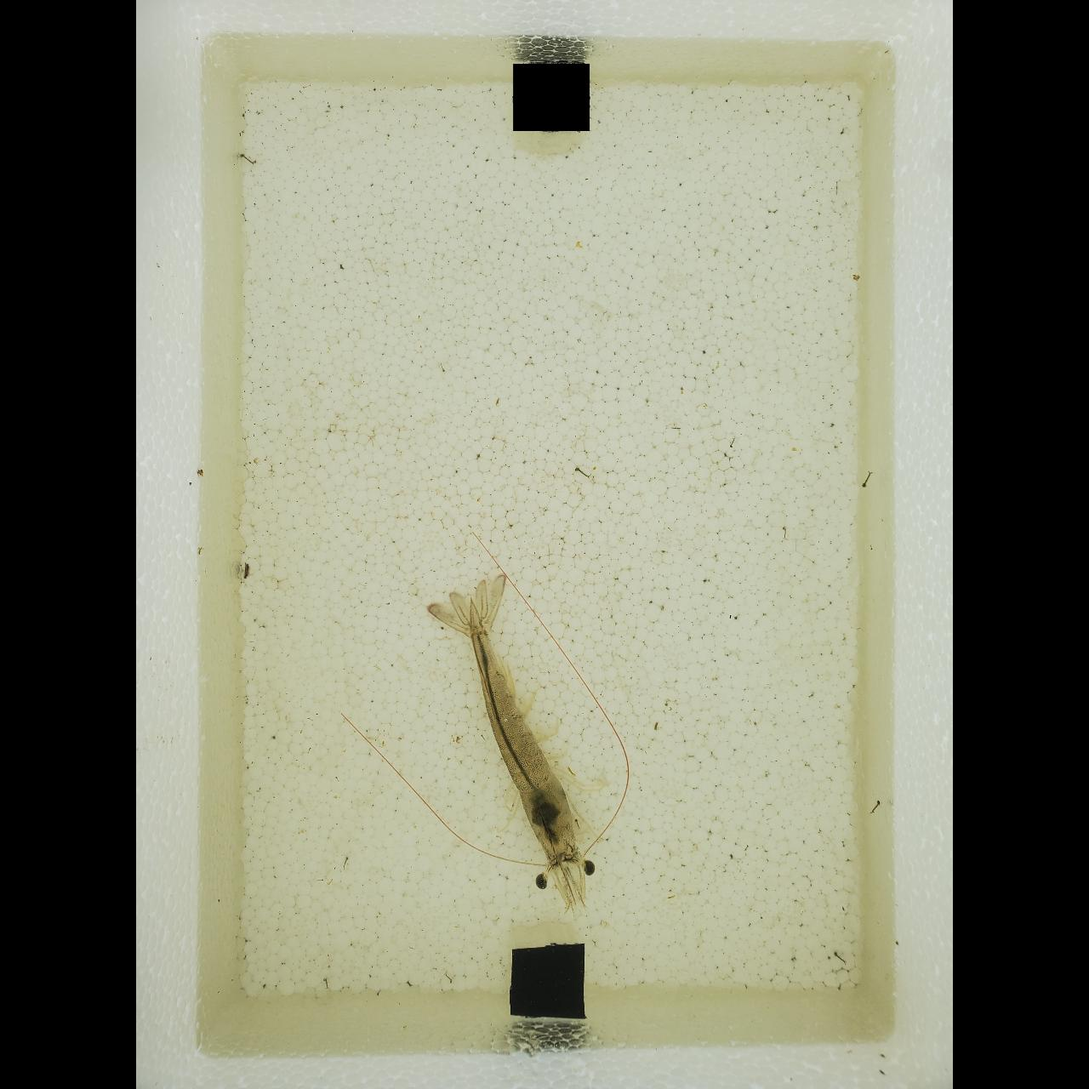box: (510, 942, 590, 1020), (513, 62, 593, 134)
top_shrimp: (468, 591, 581, 859)
